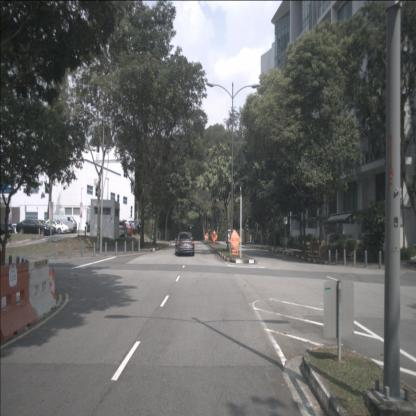barrier: (0, 261, 37, 341), (26, 258, 57, 321)
cone: (46, 269, 54, 301), (48, 269, 56, 296)
